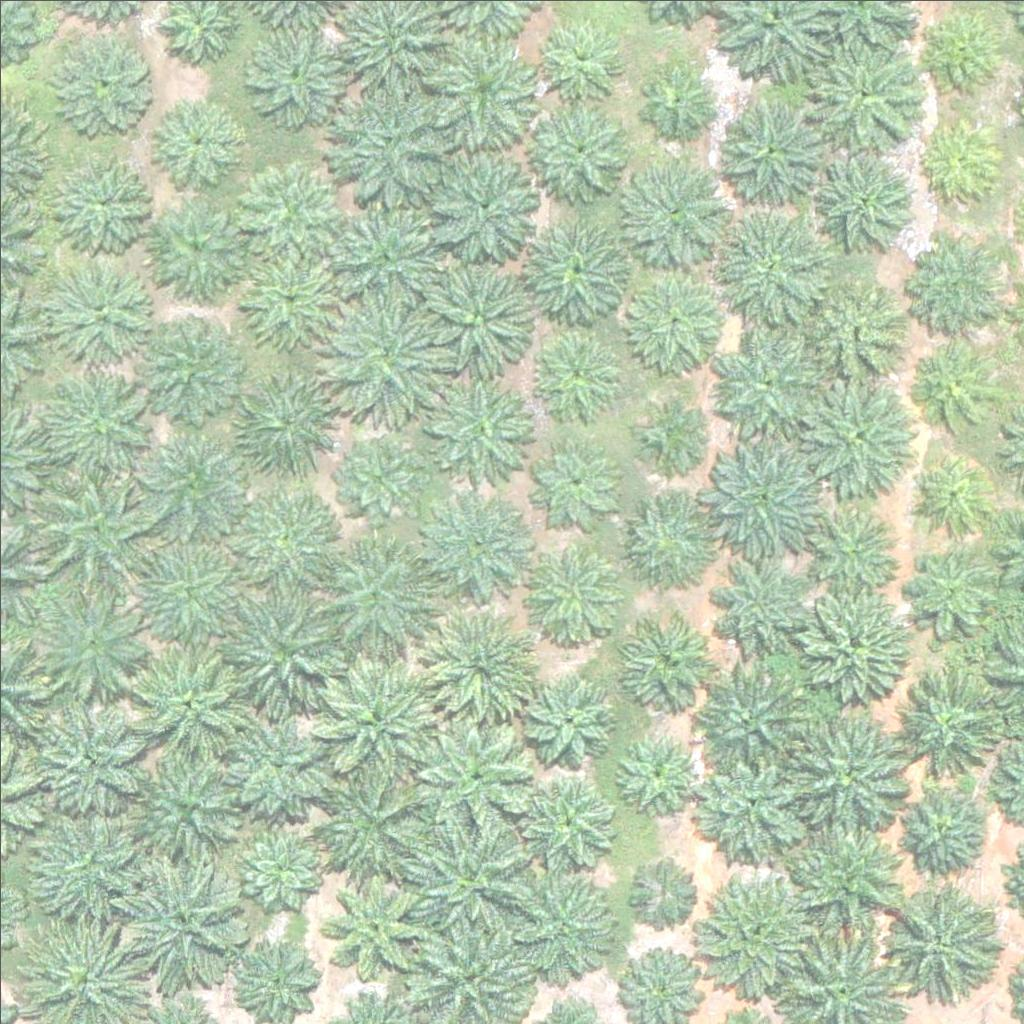Kelapa_Sawit: (35, 456, 160, 582), (115, 856, 240, 982), (329, 294, 454, 420), (307, 655, 432, 781), (795, 32, 920, 158), (414, 26, 539, 152), (326, 87, 451, 213), (404, 822, 529, 947), (426, 605, 539, 719), (422, 260, 535, 374), (519, 212, 632, 326), (690, 877, 803, 991), (894, 664, 1007, 778), (44, 25, 157, 139), (30, 805, 143, 918), (131, 528, 244, 641), (128, 644, 241, 757), (230, 597, 343, 710), (316, 535, 429, 648), (415, 721, 528, 834), (422, 372, 535, 485), (501, 873, 614, 986), (614, 258, 727, 371), (712, 209, 825, 322), (708, 443, 821, 556), (787, 815, 900, 928), (796, 714, 909, 827), (799, 594, 912, 707), (901, 534, 1014, 647), (241, 154, 354, 267), (792, 375, 904, 489), (427, 144, 539, 258), (618, 151, 730, 265), (28, 584, 140, 697), (135, 750, 247, 863), (232, 481, 344, 594), (329, 198, 441, 311), (315, 768, 427, 881), (425, 483, 537, 596), (710, 325, 822, 438), (691, 663, 803, 776), (696, 750, 808, 863), (718, 94, 830, 207), (513, 90, 625, 203), (42, 708, 142, 809), (141, 430, 241, 531), (227, 714, 327, 815), (242, 250, 342, 351), (320, 871, 420, 972), (705, 568, 805, 669), (885, 784, 985, 885), (250, 29, 350, 130), (53, 365, 153, 465), (45, 264, 145, 364), (142, 196, 242, 296), (141, 324, 241, 424), (616, 607, 716, 707), (801, 286, 901, 386), (890, 887, 990, 987), (144, 92, 244, 192), (52, 152, 152, 252), (914, 237, 1002, 326), (907, 451, 995, 539), (240, 379, 328, 467), (531, 329, 619, 417), (527, 783, 615, 871), (617, 729, 705, 817), (818, 505, 906, 593), (915, 339, 1003, 427), (525, 553, 612, 641), (526, 679, 613, 767), (624, 498, 711, 586), (818, 156, 905, 244), (629, 848, 704, 924), (918, 17, 993, 93), (239, 942, 314, 1018), (241, 825, 316, 901), (534, 439, 609, 515), (920, 121, 995, 197), (635, 58, 710, 134), (340, 450, 415, 525), (538, 21, 613, 96), (639, 404, 702, 467)
